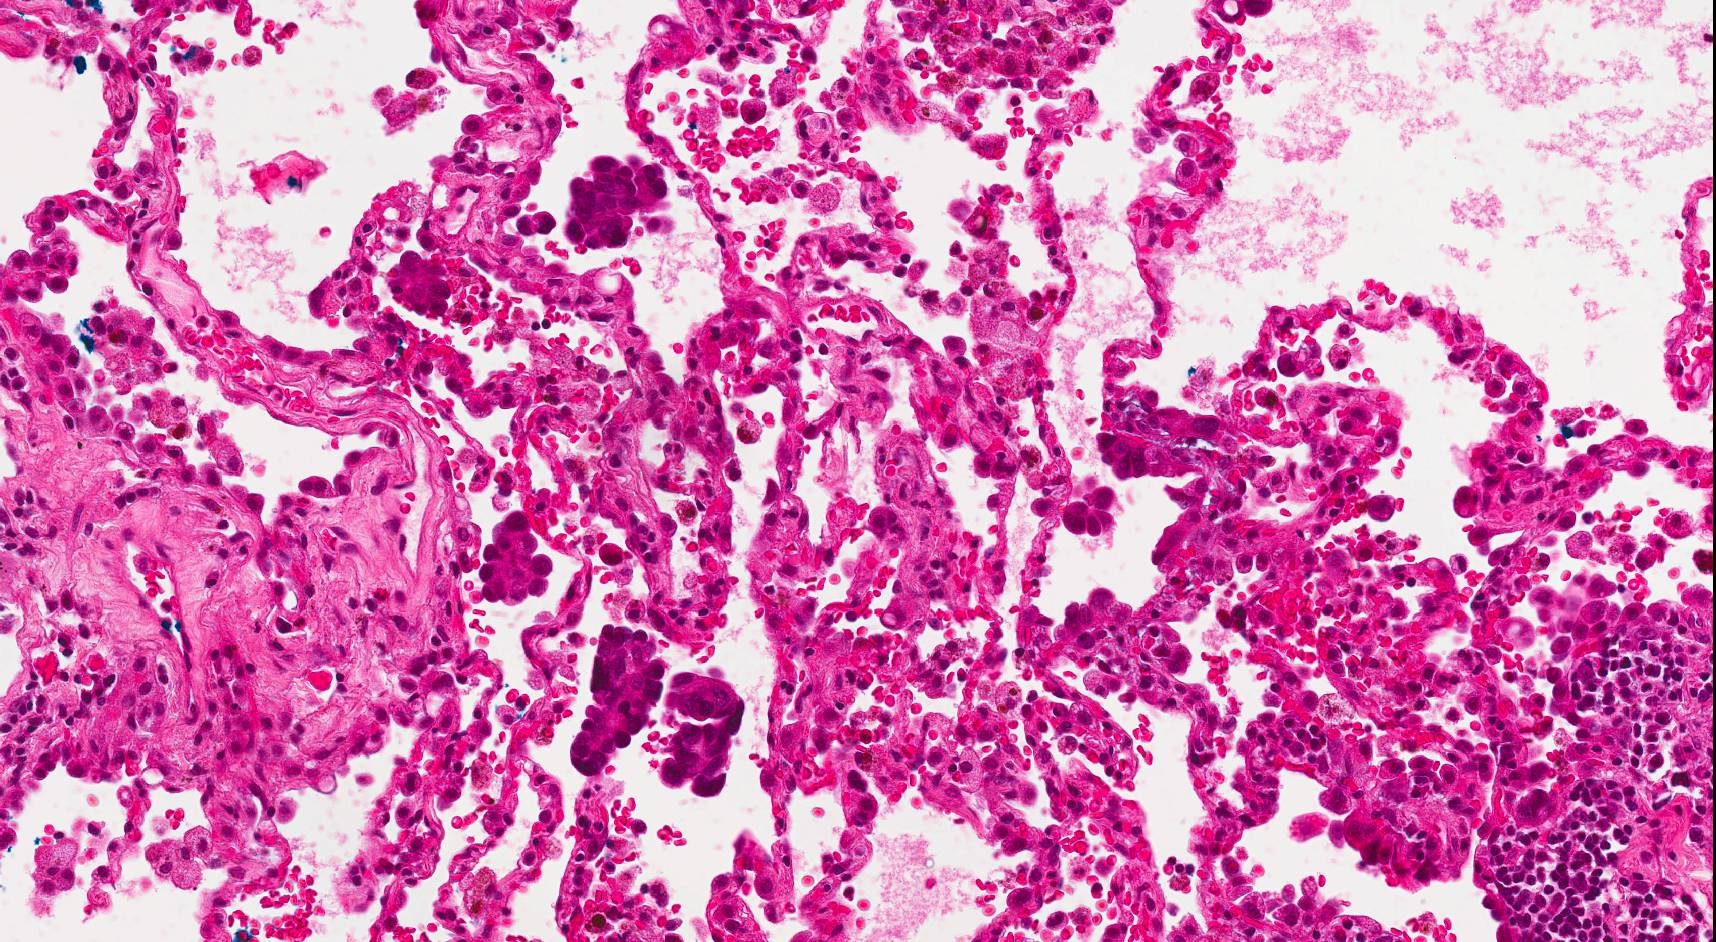stas: (568, 620, 662, 779), (661, 673, 747, 802), (567, 152, 673, 251), (477, 509, 552, 605), (387, 249, 453, 320), (1061, 485, 1121, 537), (512, 211, 558, 234)
